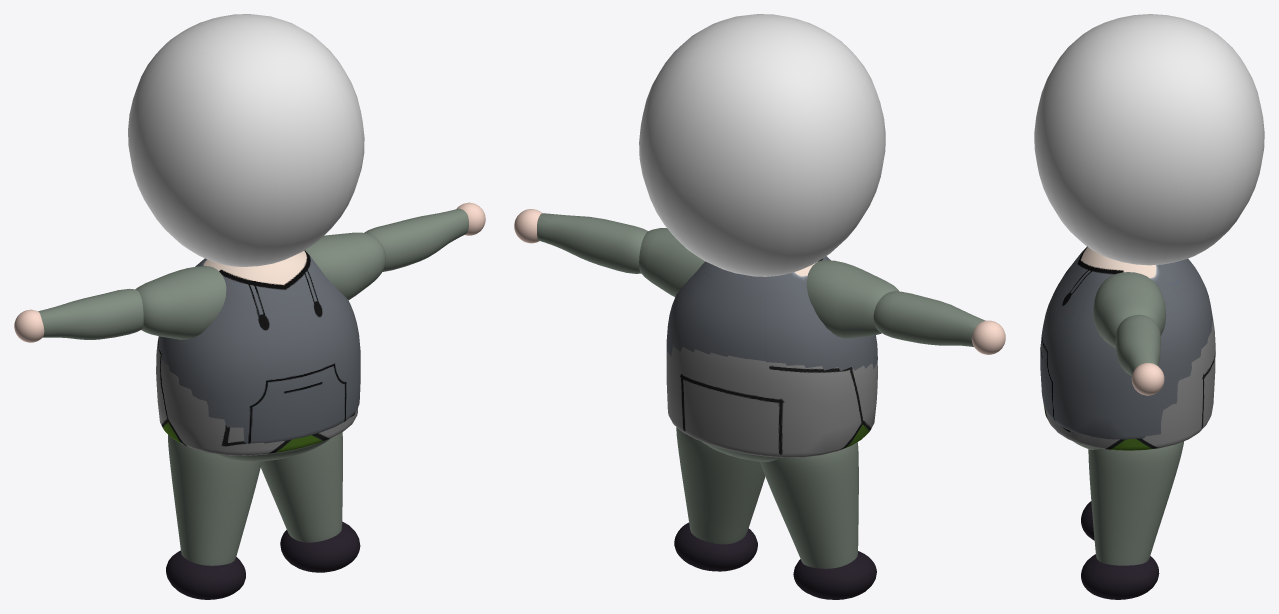
Rendered from policeModelBone.fbx.
3 views of the same model, side by side, from view 1: azimuth 30°, elevation 25°; view 2: azimuth 150°, elevation 25°; view 3: azimuth 270°, elevation 25° (orthographic). The views are drawn at different scales.
Visible parts, largest first — view 1: Cube.002, Cube.009, Cube.005, Cube.003, Cube.004, body, Cube.006, Sphere.001, Cube.001; view 2: Cube.002, body, Cube.005, Cube.009, Cube.004, Cube.003, Cube.006, Sphere.001; view 3: Cube.002, Cube.009, Cube.005, body, Cube.003, Cube.006, Cube.004, Sphere.001.
Boxes of the visible parts, box(x1,y1,x2,y2) form: Cube.002: box(128, 14, 364, 266); Cube.009: box(158, 250, 360, 443); Cube.005: box(168, 432, 342, 565); Cube.003: box(135, 232, 385, 339); Cube.004: box(38, 208, 468, 339); body: box(156, 336, 358, 455); Cube.006: box(166, 521, 360, 599); Sphere.001: box(14, 202, 485, 342); Cube.001: box(218, 438, 330, 461); Cube.002: box(639, 14, 885, 276); body: box(666, 346, 877, 457); Cube.005: box(676, 427, 858, 568); Cube.009: box(666, 256, 877, 370); Cube.004: box(537, 213, 985, 346); Cube.003: box(639, 228, 899, 338); Cube.006: box(674, 522, 876, 599); Sphere.001: box(514, 209, 1005, 354); Cube.002: box(1034, 14, 1264, 265); Cube.009: box(1040, 246, 1212, 439); Cube.005: box(1088, 441, 1184, 565); body: box(1044, 315, 1215, 450); Cube.003: box(1093, 272, 1166, 348); Cube.006: box(1081, 501, 1159, 599); Cube.004: box(1115, 314, 1160, 376); Sphere.001: box(1131, 363, 1164, 395).
Bounding box in the file's own units: 495 × 550 × 213.
